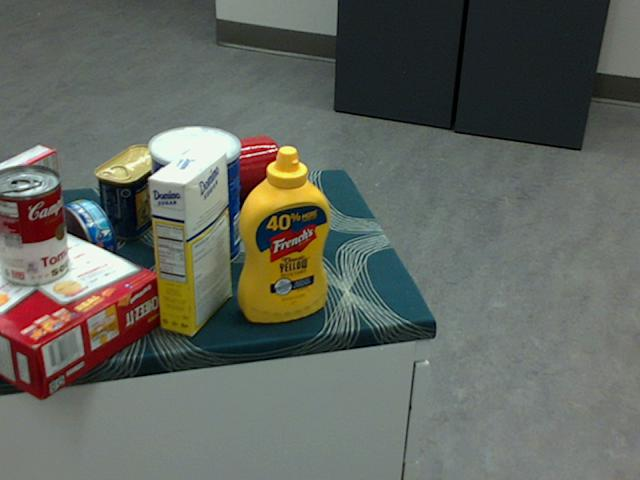cracker_box: (0, 209, 161, 399)
gelatin_box: (0, 145, 59, 226)
large_marker: (276, 152, 292, 245)
master_chef_can: (146, 125, 239, 272)
mug: (197, 134, 283, 208)
mustard_bottle: (237, 144, 331, 321)
potted_meat_can: (92, 143, 168, 240)
sugar_box: (146, 146, 232, 335)
tomato_soup_can: (0, 165, 68, 286)
tuna_fish_can: (47, 199, 115, 278)
